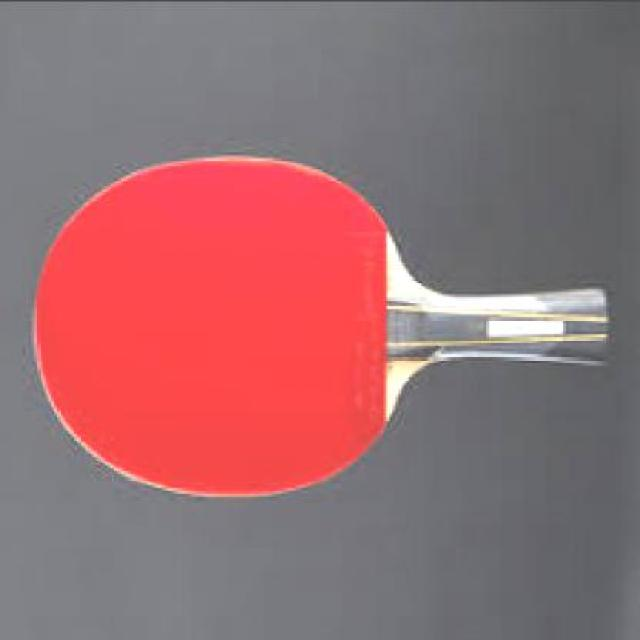table_tennis_racket: (30, 147, 427, 501)
